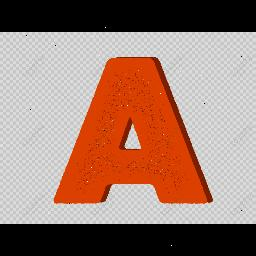a: (40, 50, 224, 214)
